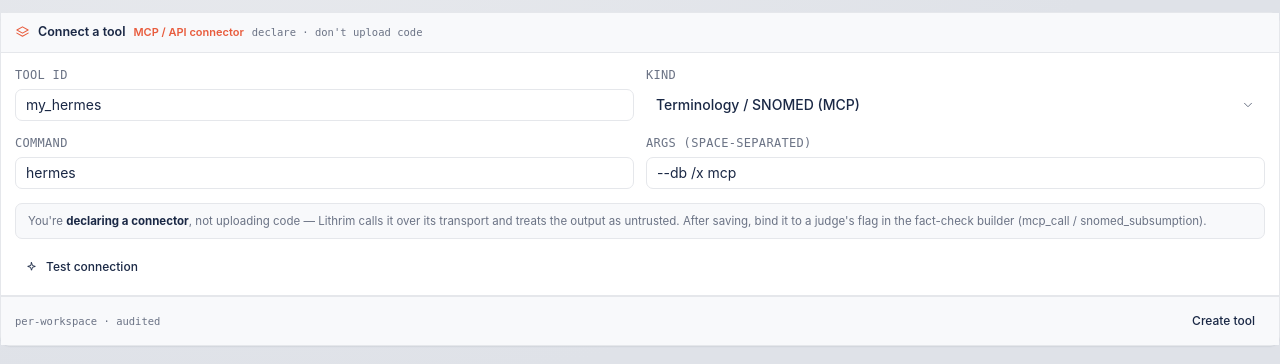
ToolBuilder › Test connection posts the manifest and shows the reachable tools
The width and height of the screenshot is (1280, 364).
What coordinates should you click on to do the following:
click the button "Test connection"
I would click on:
 (81, 267)
Its box is [15, 253, 148, 281].
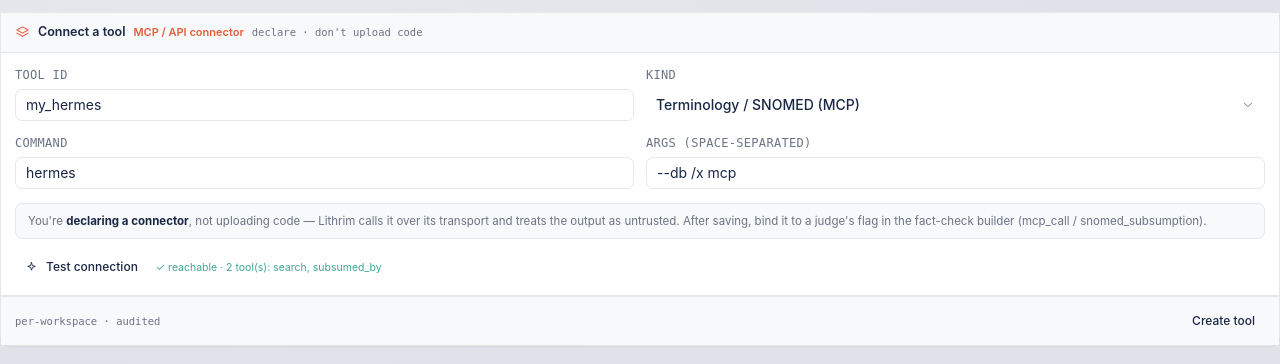
Expected: the text with test id "tool-test-result" shows "reachable", [156, 261, 382, 274]
